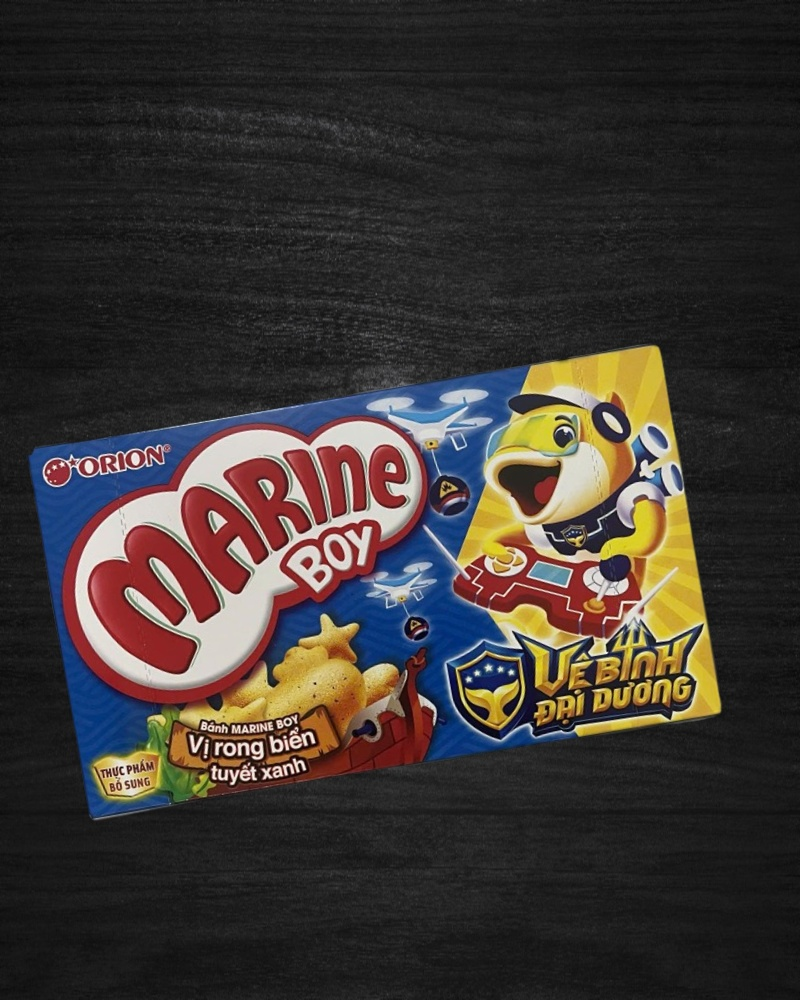Marine: (27, 338, 727, 827)
